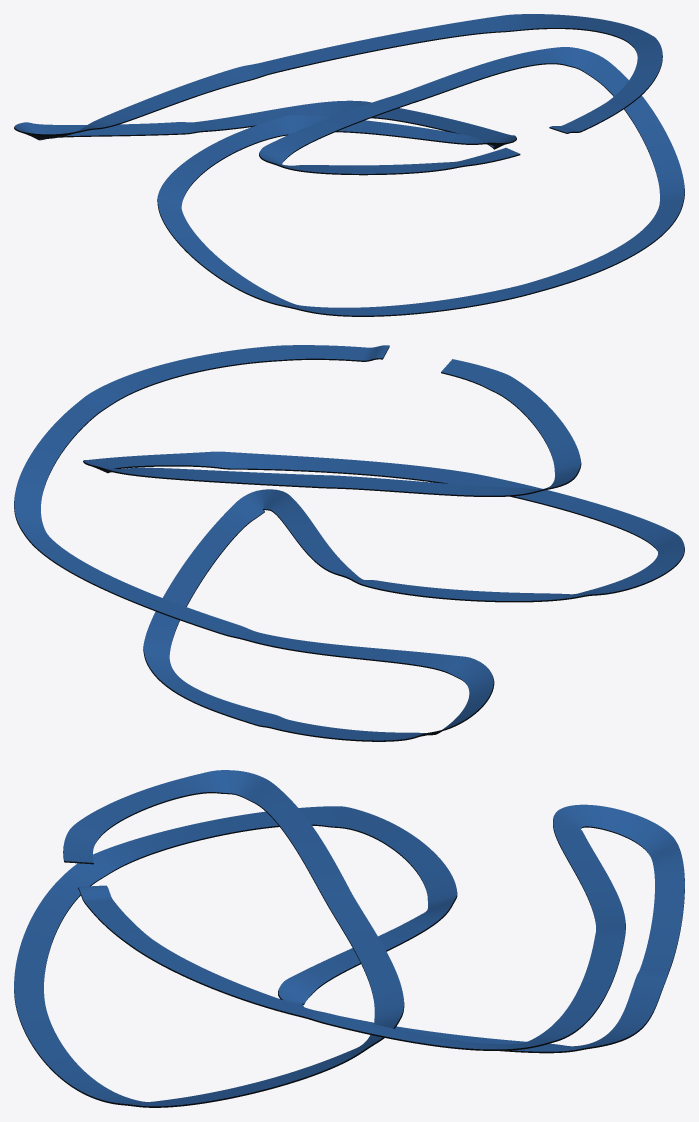
The model's file is neon-undercity-track.obj.
The picture shows the model from 3 angles, top to bottom: view 1: azimuth 30°, elevation 25°; view 2: azimuth 150°, elevation 25°; view 3: azimuth 270°, elevation 25°; orthographic projection. The views are drawn at different scales.
Visible parts, largest first — view 1: prismatic-road_part_0, carbon-road-chassis_part_1; view 2: prismatic-road_part_0, carbon-road-chassis_part_1; view 3: prismatic-road_part_0, carbon-road-chassis_part_1.
Part boxes in pixels (x1,y1,x2,y2): prismatic-road_part_0: [14, 14, 684, 315]; carbon-road-chassis_part_1: [14, 28, 684, 316]; prismatic-road_part_0: [14, 345, 684, 740]; carbon-road-chassis_part_1: [14, 346, 684, 741]; prismatic-road_part_0: [14, 770, 684, 1106]; carbon-road-chassis_part_1: [14, 792, 684, 1107].
Bounding box in the file's own units: 328 × 88.86 × 318.
